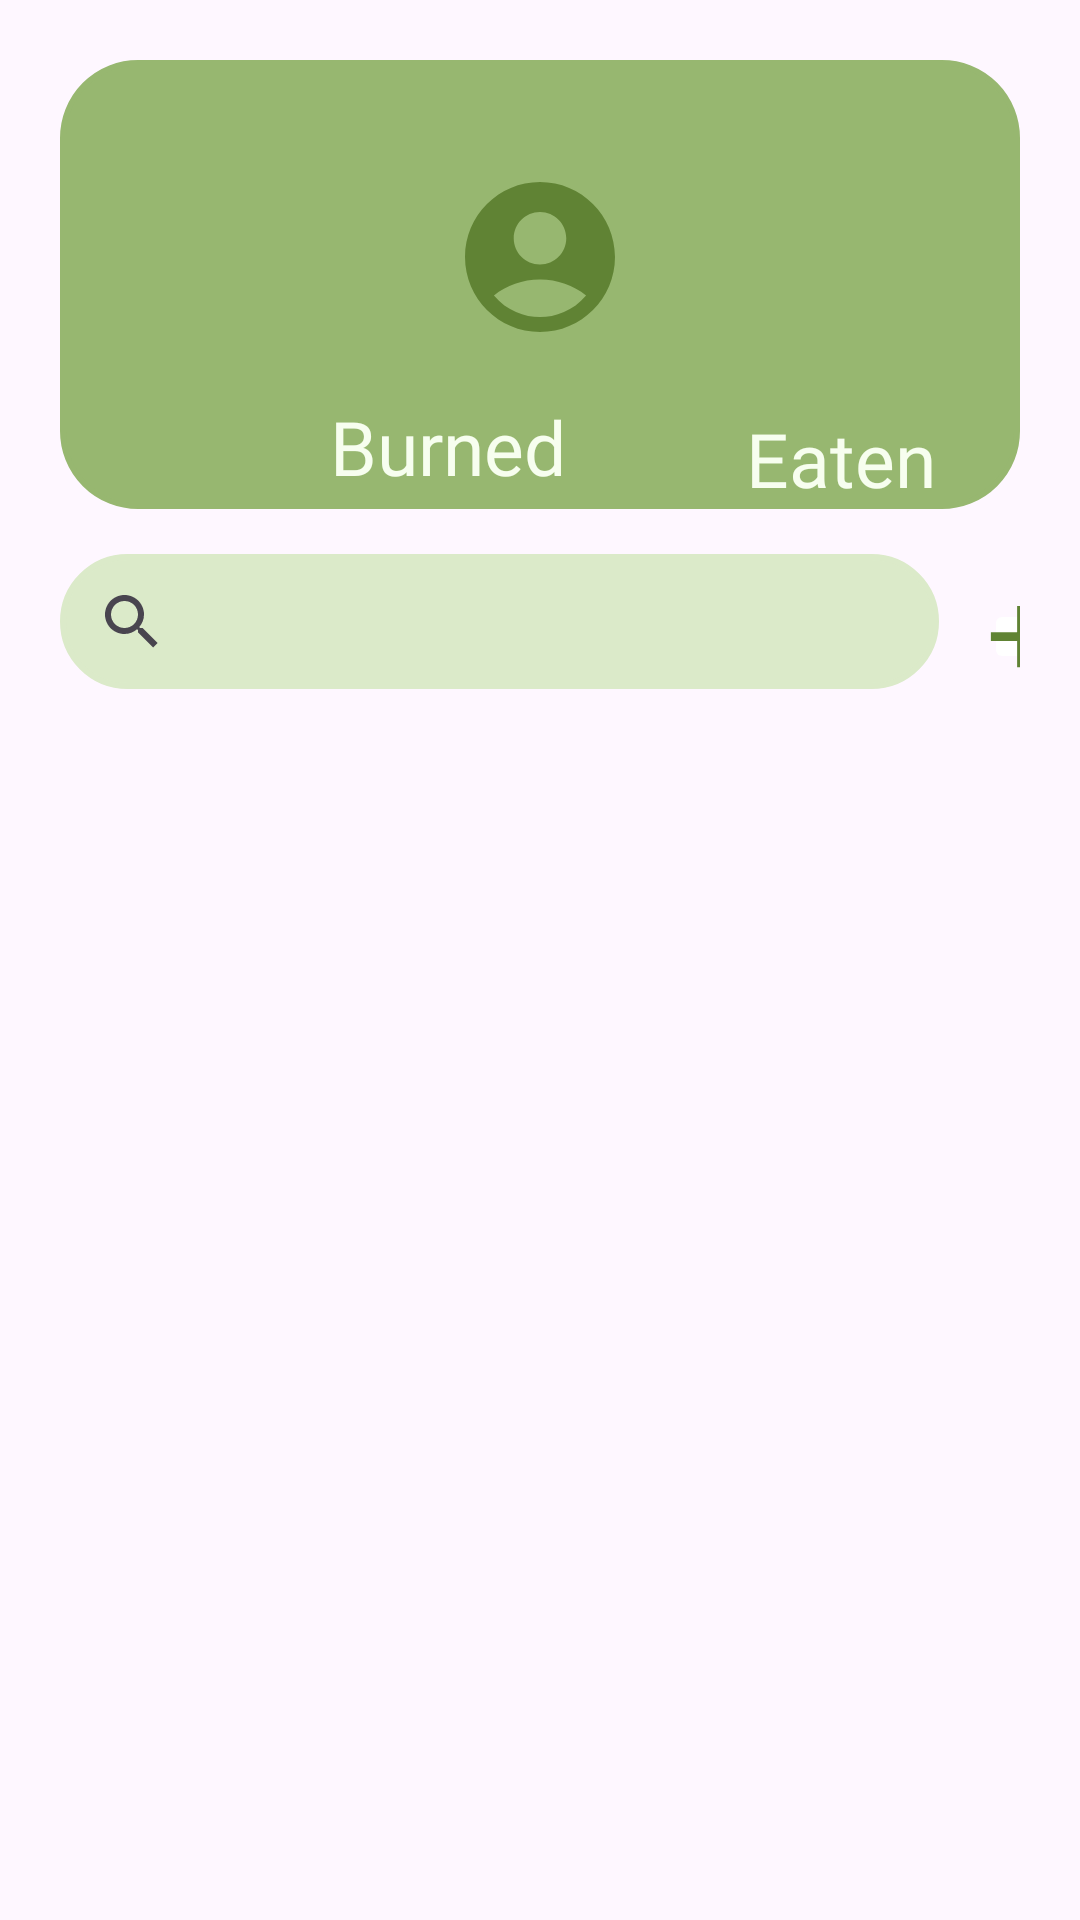

Where icons sit on this 1080 x 1920 app screen, as box(x1, y1, x2, y2):
user: box(465, 182, 615, 332)
